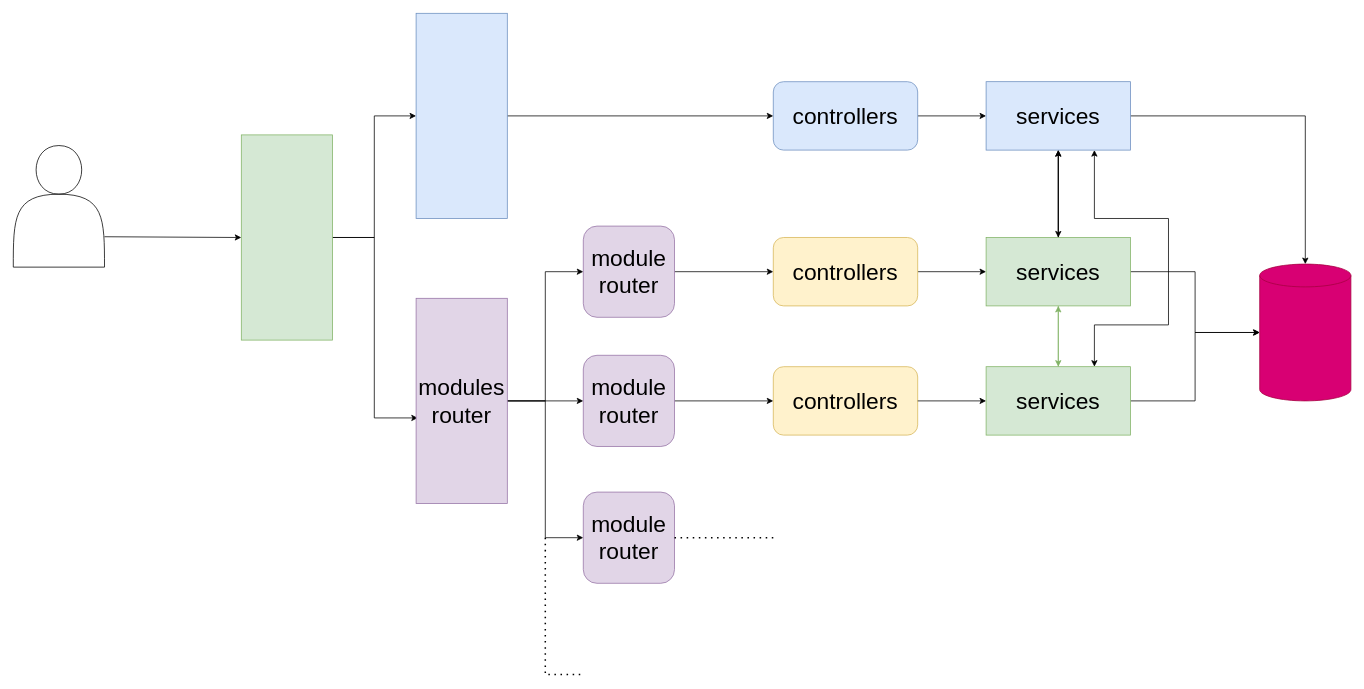
Some shapes in this 1364 by 689 pixel diagram are drawn without their labels. Here are the shapes that lost their labels. From the top down, the centre of each, then its label:
At pixel 461 115: "core router".
At pixel 286 237: "router".
At pixel 1305 332: "DB".
